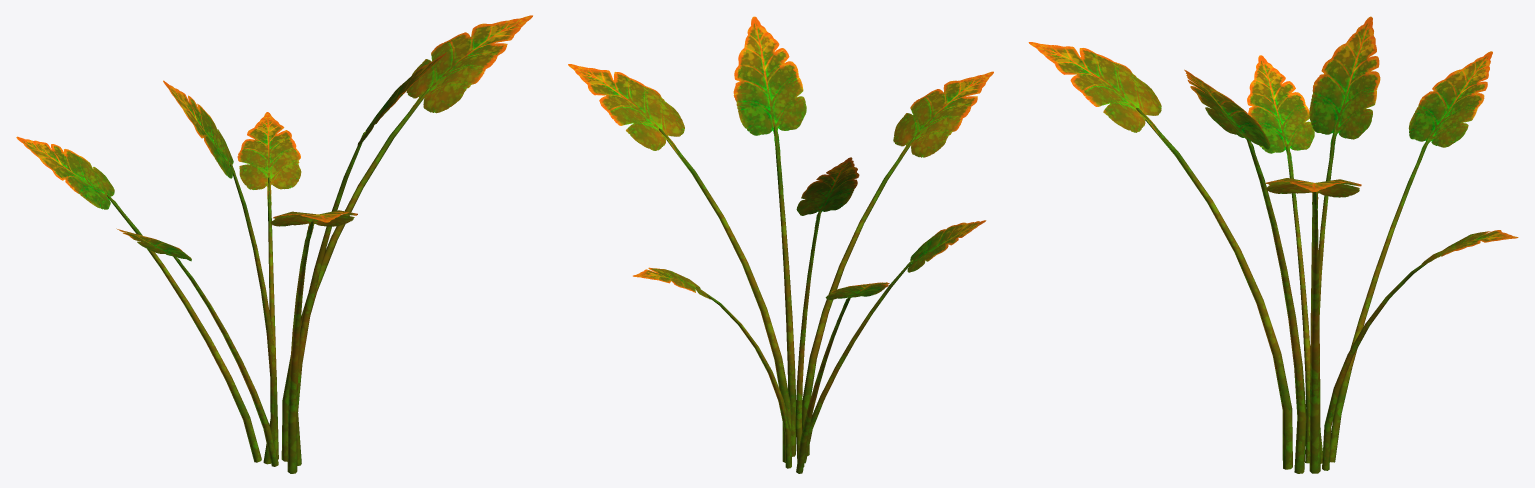
The model's file is SM_Elephant_ear_stem_bush_LOD0.fbx.
3 views of the same model, side by side, from view 1: azimuth 30°, elevation 25°; view 2: azimuth 150°, elevation 25°; view 3: azimuth 270°, elevation 25° (orthographic). The views are drawn at different scales.
Parts seen in each view (by area): view 1: SM_Elephant_ear_stem_bush_LOD0_LOD0; view 2: SM_Elephant_ear_stem_bush_LOD0_LOD0; view 3: SM_Elephant_ear_stem_bush_LOD0_LOD0.
Boxes of the visible parts, x1,y1,x2,y2 form: SM_Elephant_ear_stem_bush_LOD0_LOD0: [16, 15, 532, 473]; SM_Elephant_ear_stem_bush_LOD0_LOD0: [568, 16, 993, 473]; SM_Elephant_ear_stem_bush_LOD0_LOD0: [1028, 16, 1518, 473].
Bounding box in the file's own units: 462 × 420 × 426.
